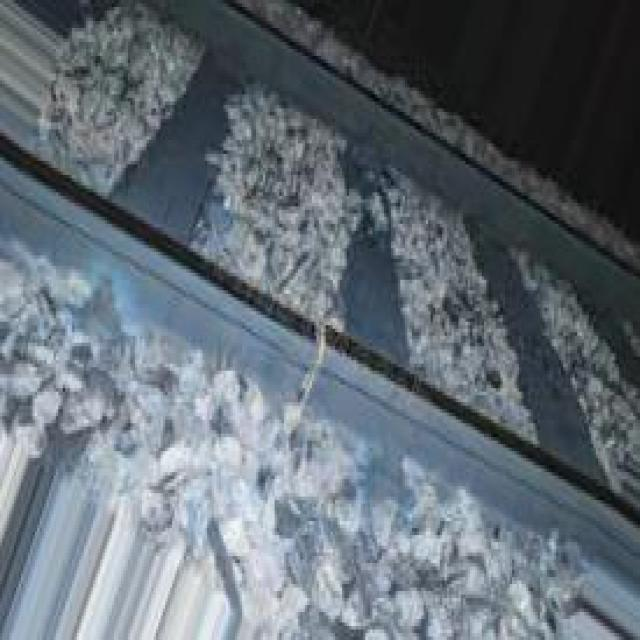crack: (264, 311, 349, 463)
